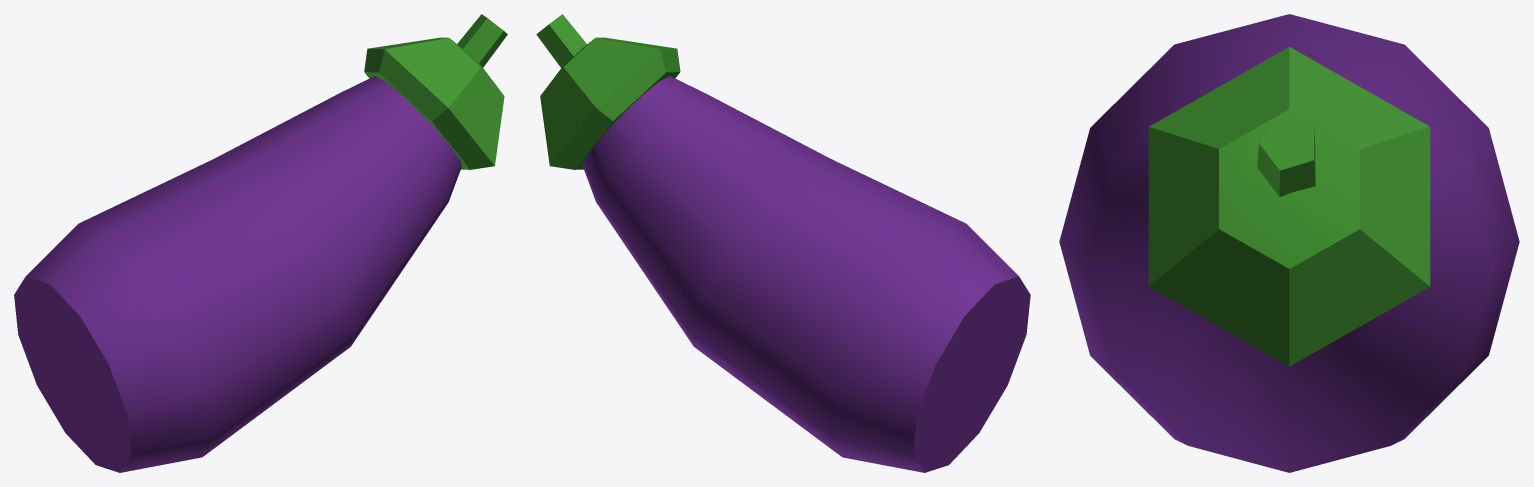
File: Eggplant.fbx
3 views of the same model, side by side, from view 1: azimuth 30°, elevation 25°; view 2: azimuth 150°, elevation 25°; view 3: azimuth 270°, elevation 25° (orthographic). The views are drawn at different scales.
Visible parts, largest first — view 1: Eggplant; view 2: Eggplant; view 3: Eggplant.
Part boxes in pixels (x1=…): Eggplant: x1=14, y1=14, x2=507, y2=472; Eggplant: x1=536, y1=14, x2=1030, y2=472; Eggplant: x1=1059, y1=14, x2=1519, y2=472.
Size of the model in its own units: 1.35 by 1.01 by 0.68.
1 material, 1 textured.
